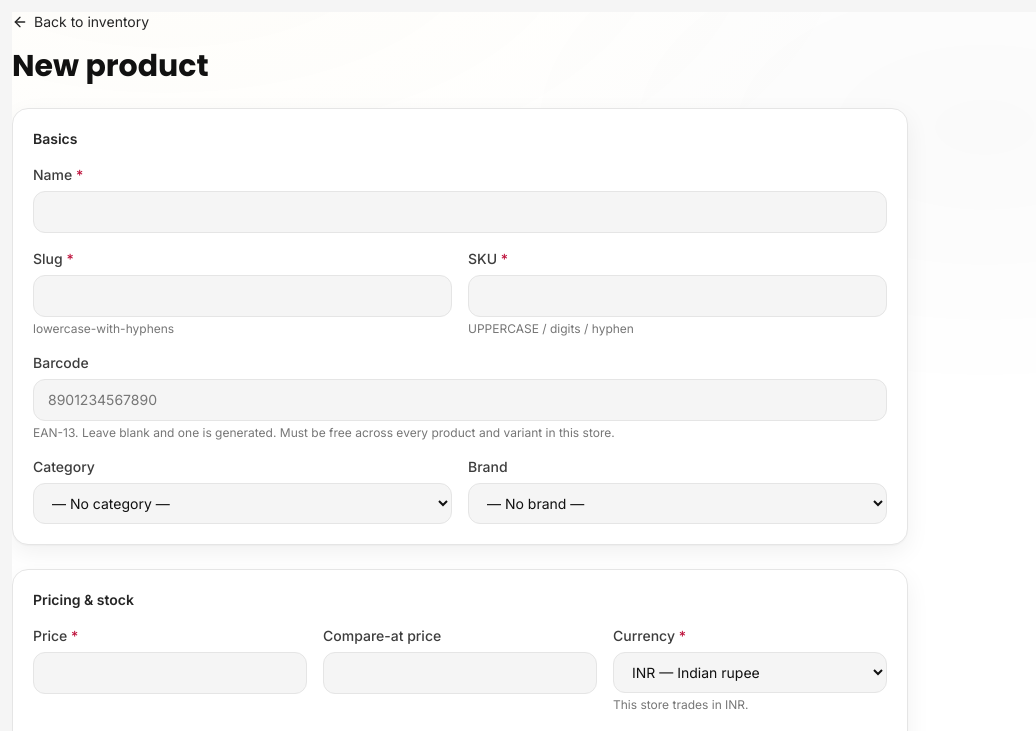
Test: Admin ProductForm — duplicate products › warns when a product of the same name already exists
In the field named "Product name": (460, 212) [33,191,887,233], type "Signet Ring"
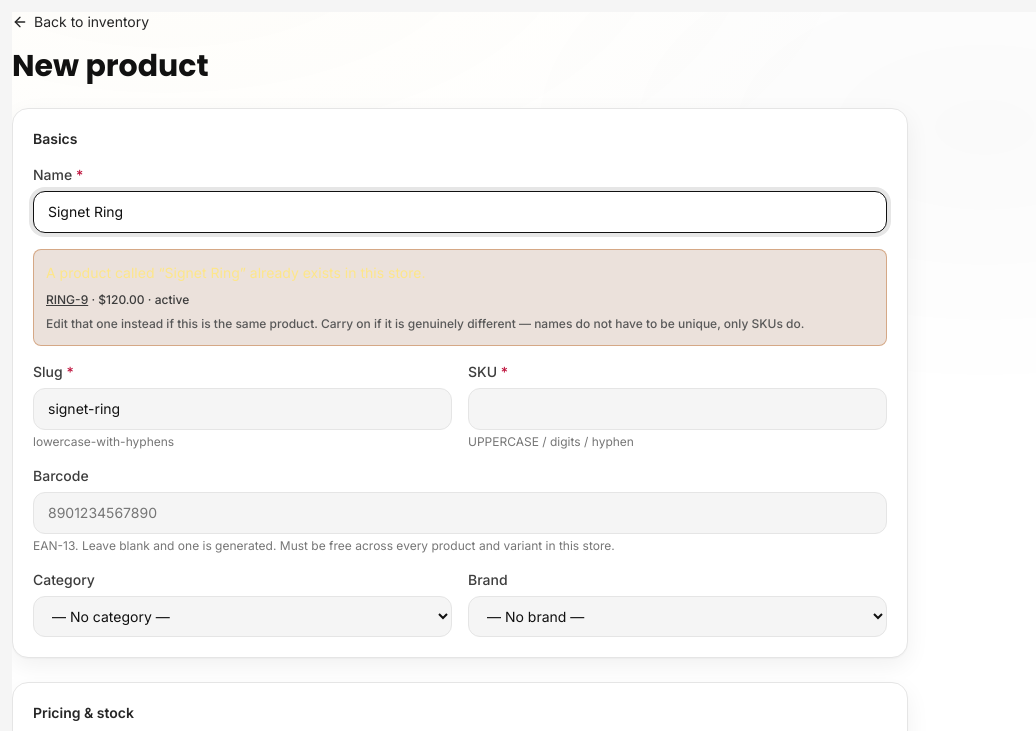
Check: the text "A product called “Signet Ring” already exists in this store." is shown, box [46,264,426,281]
Check: the text "names do not have to be unique" is shown, box [46,316,804,332]
